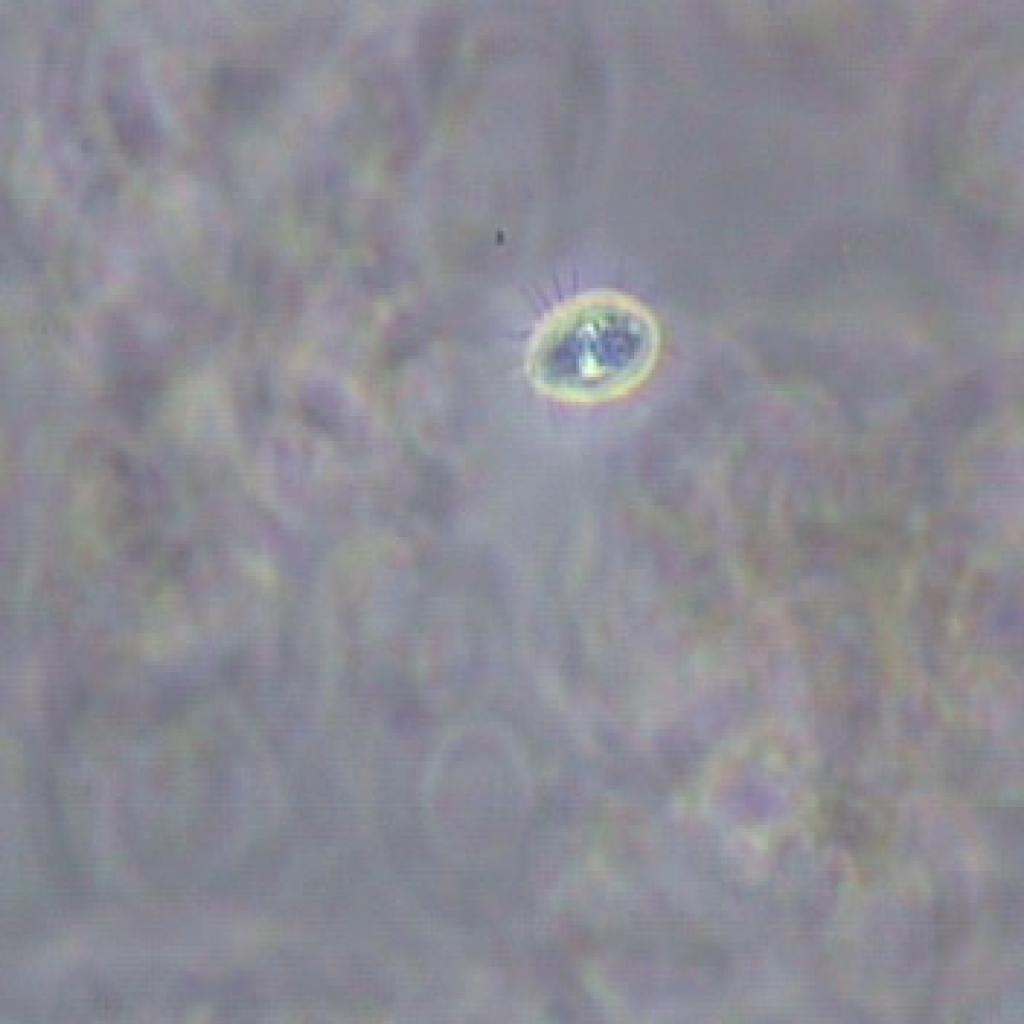Cyclidium: (489, 251, 692, 446)
